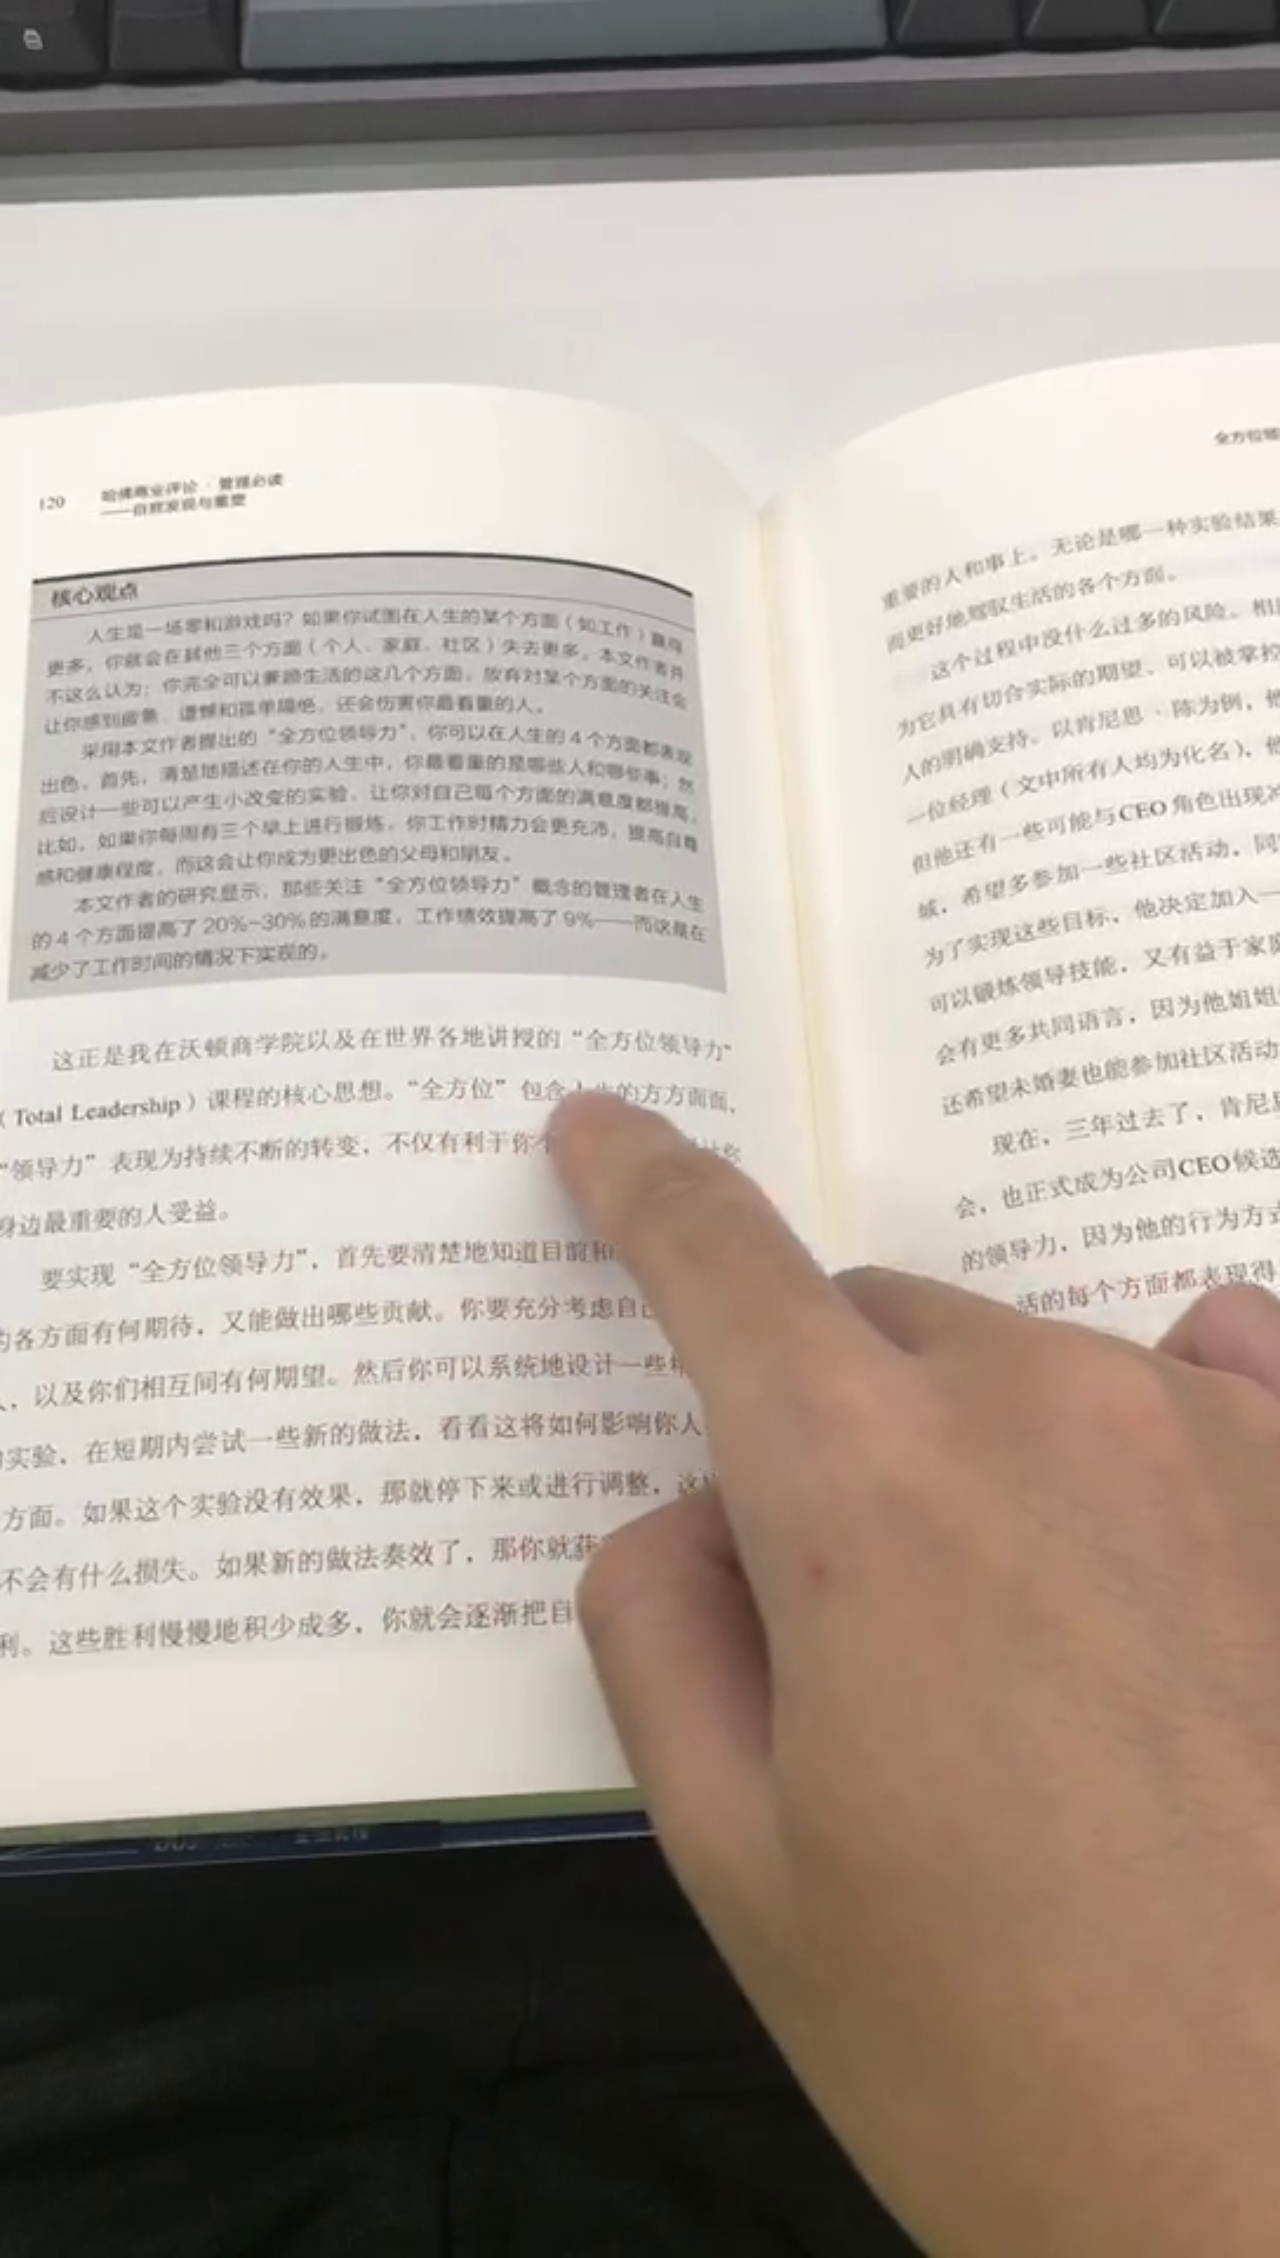finger2: (552, 1089, 641, 1124)
